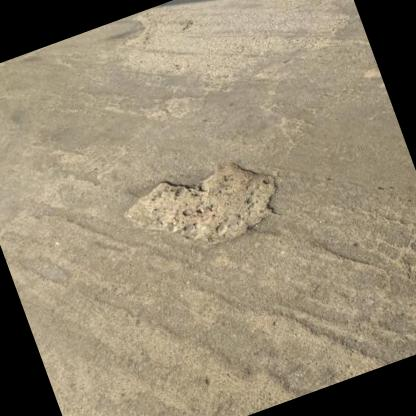pothole: (116, 142, 290, 270)
